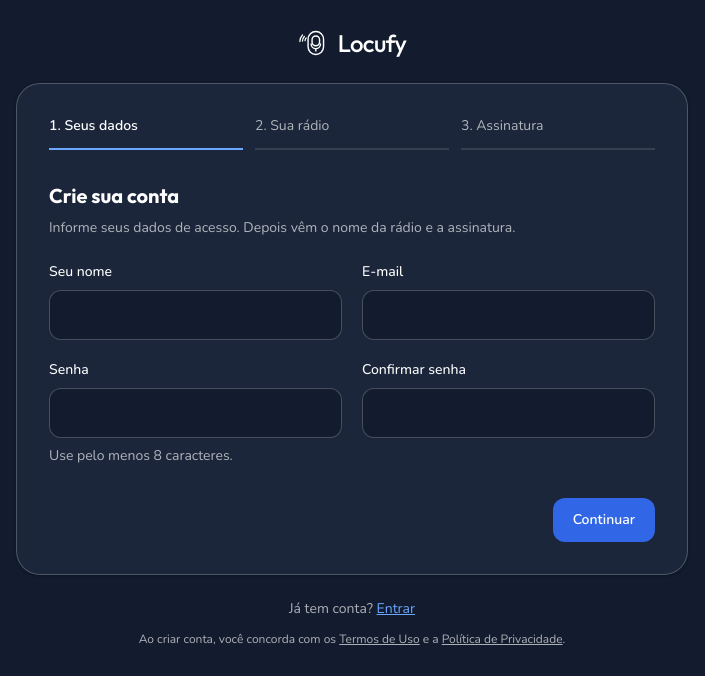
Scenario: erro de campo aparece só junto do campo, sem repetir no rodapé
Click the button "Continuar" at (604, 520), box left=553, top=498, right=655, bottom=542
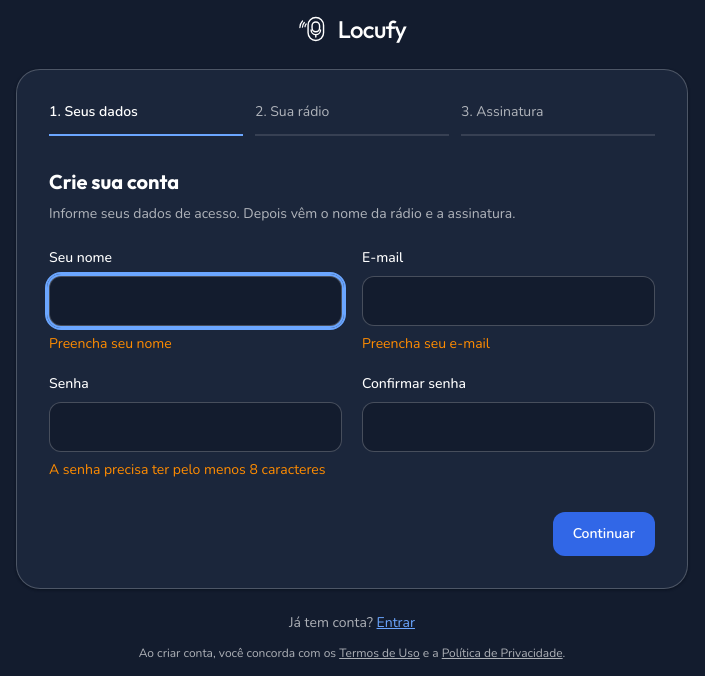
Check: the text "Preencha seu nome" is shown once, box left=49, top=334, right=172, bottom=353
